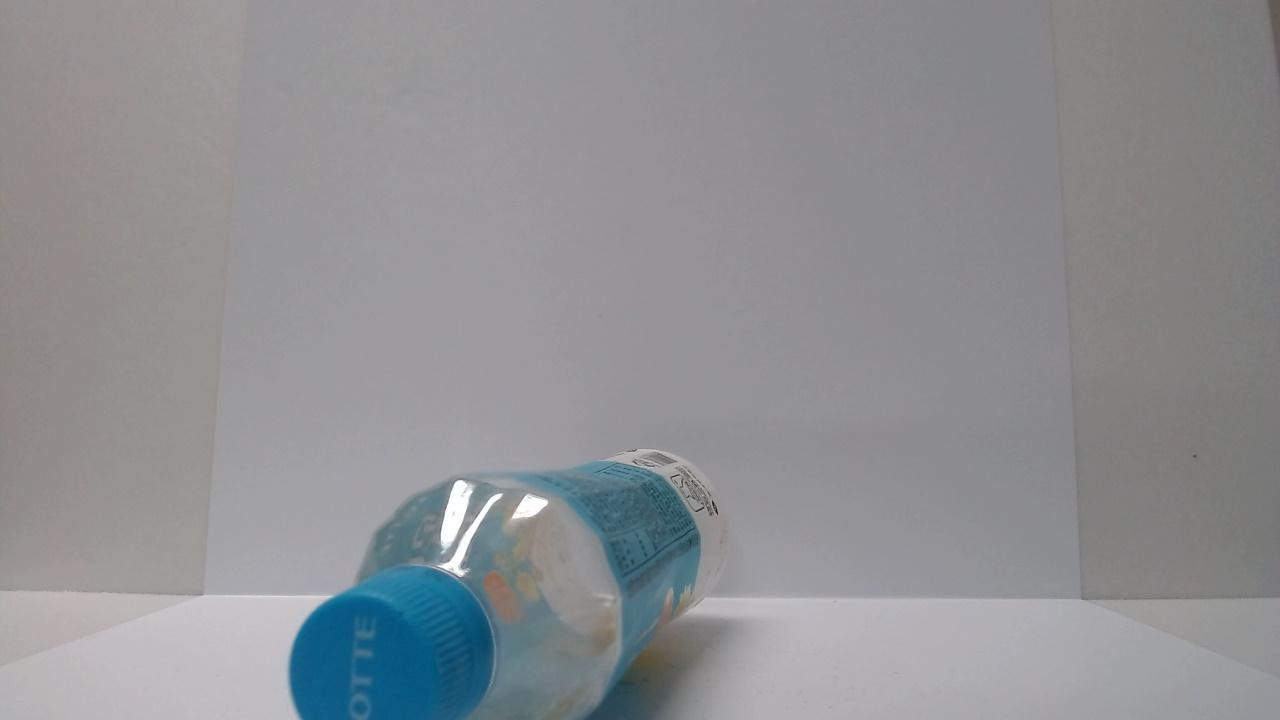bottle: (287, 435, 738, 716)
